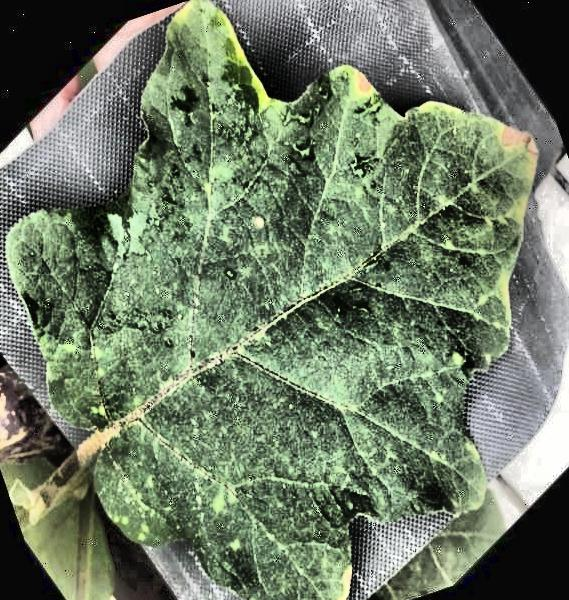Non-critical Stress: (1, 0, 569, 600)
